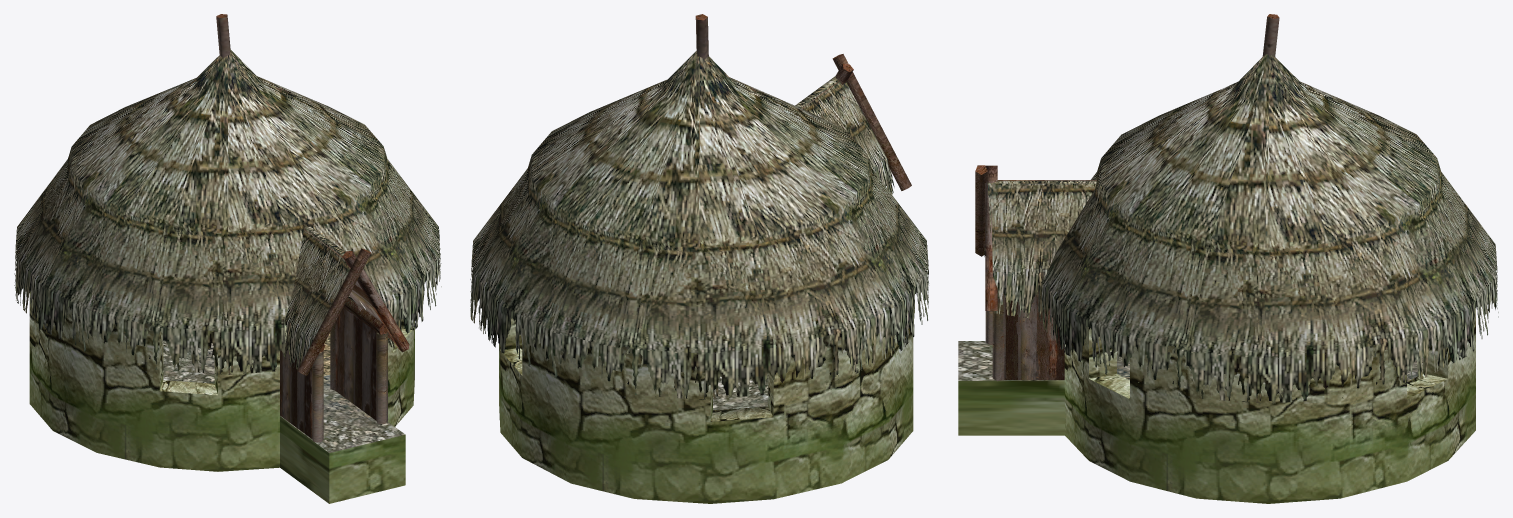
The model's file is building_hovel2.glb.
3 renders of one model, left to right at view 1: azimuth 30°, elevation 25°; view 2: azimuth 150°, elevation 25°; view 3: azimuth 270°, elevation 25°, orthographic. The views are drawn at different scales.
Visible parts, largest first — view 1: building_hovel2; view 2: building_hovel2; view 3: building_hovel2.
Part boxes in pixels (x1=…): building_hovel2: x1=14, y1=14, x2=441, y2=503; building_hovel2: x1=470, y1=14, x2=928, y2=503; building_hovel2: x1=958, y1=14, x2=1498, y2=503.
Size of the model in its own units: 4.81 by 4.55 by 5.56.
5 materials, 5 textured.
